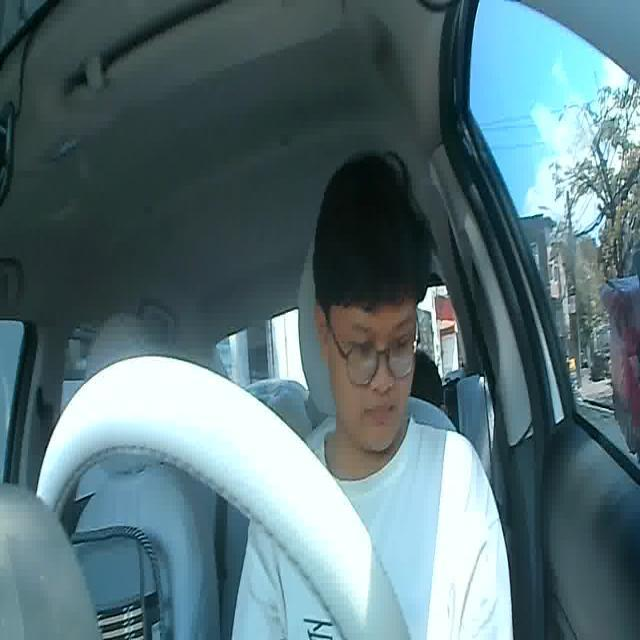Eye-Close: (387, 334, 418, 354), (344, 333, 374, 353)
Inattentive: (312, 146, 437, 454)
Normal: (364, 398, 399, 424)
